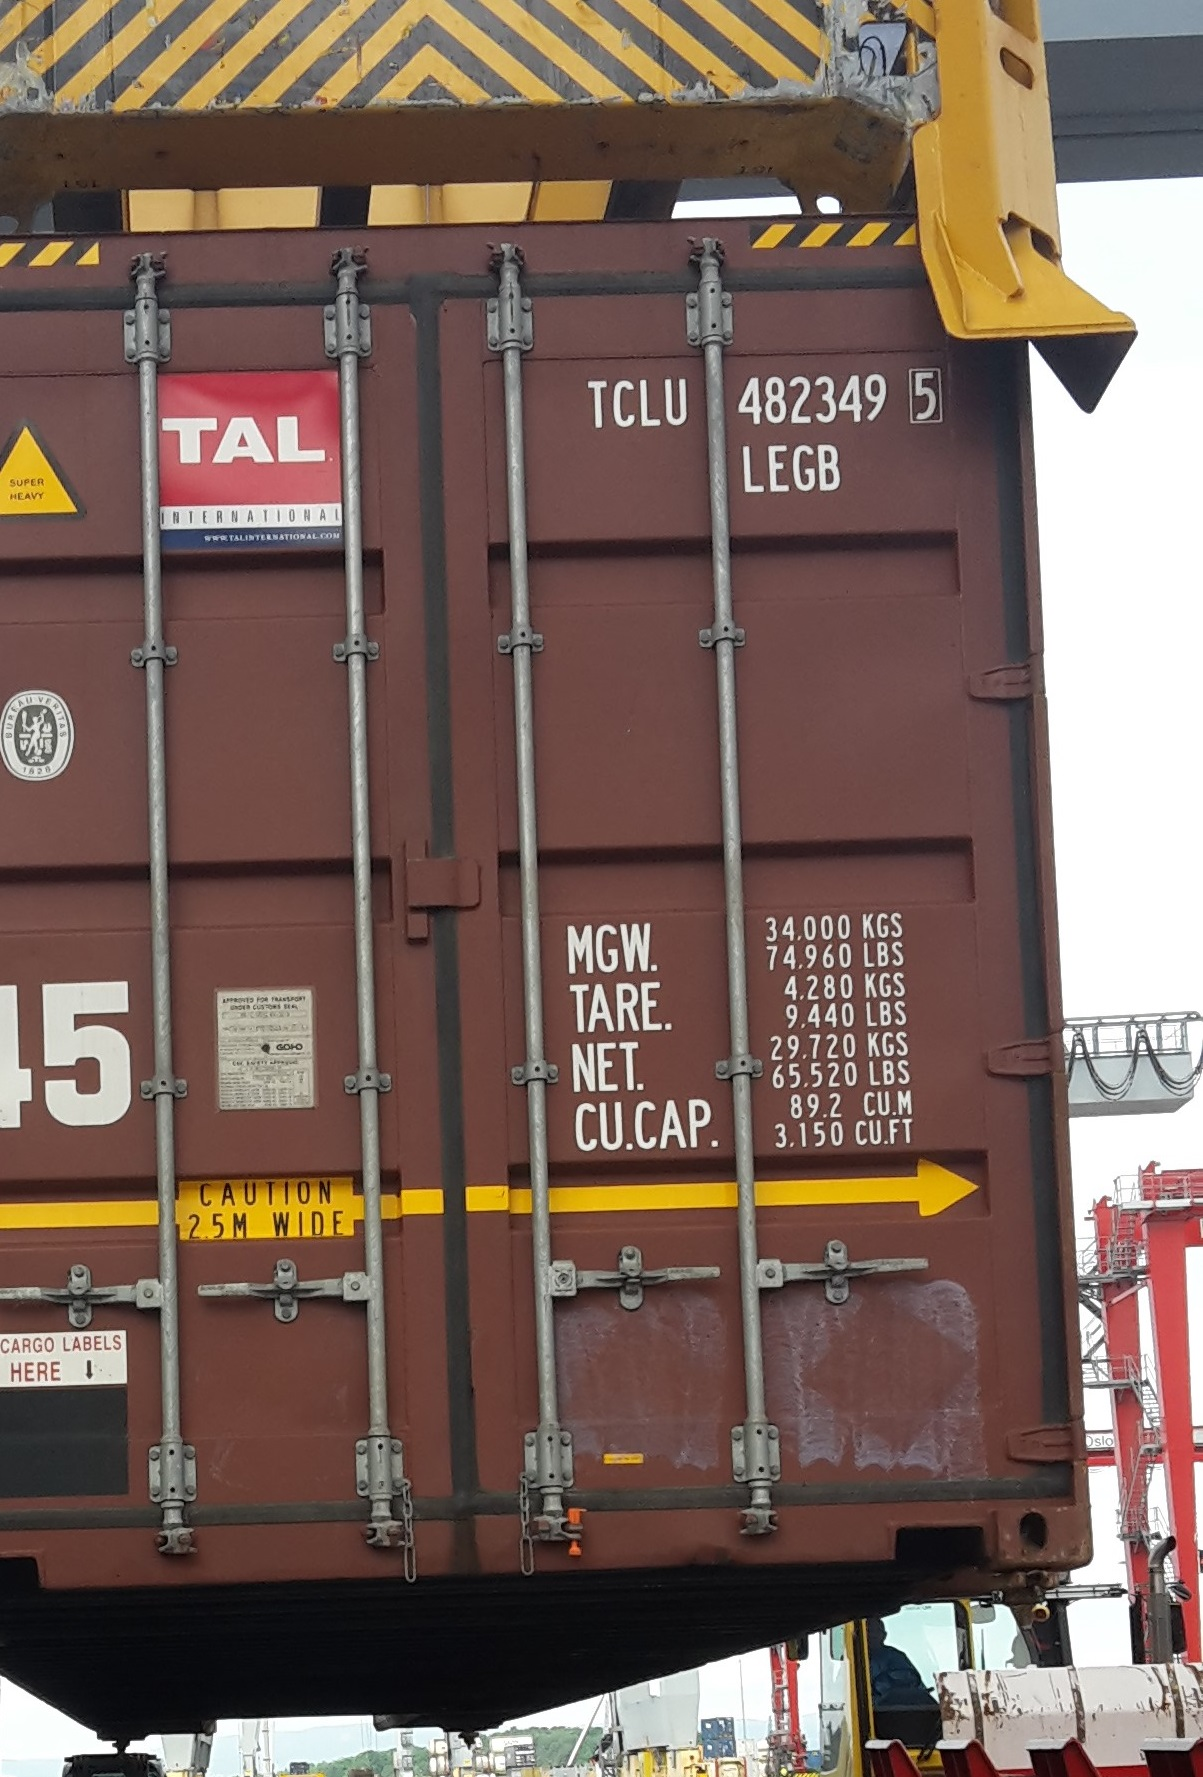container_door: (24, 203, 1075, 1604)
